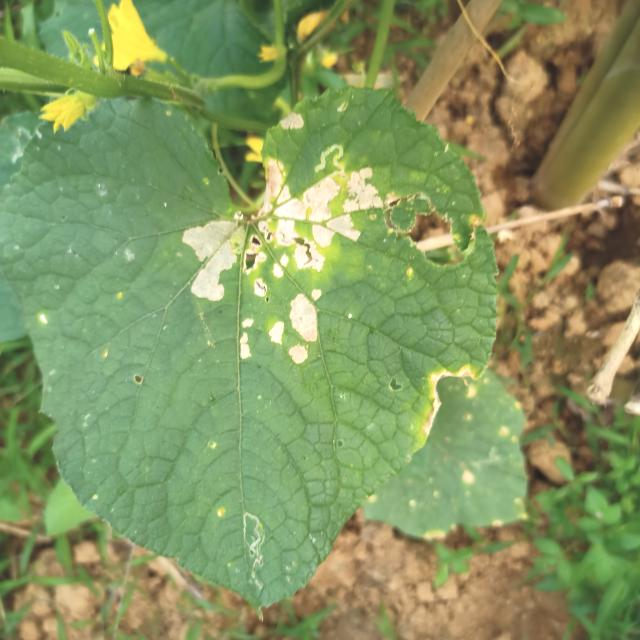disease_cucumber: (178, 157, 378, 373), (278, 108, 304, 132)
